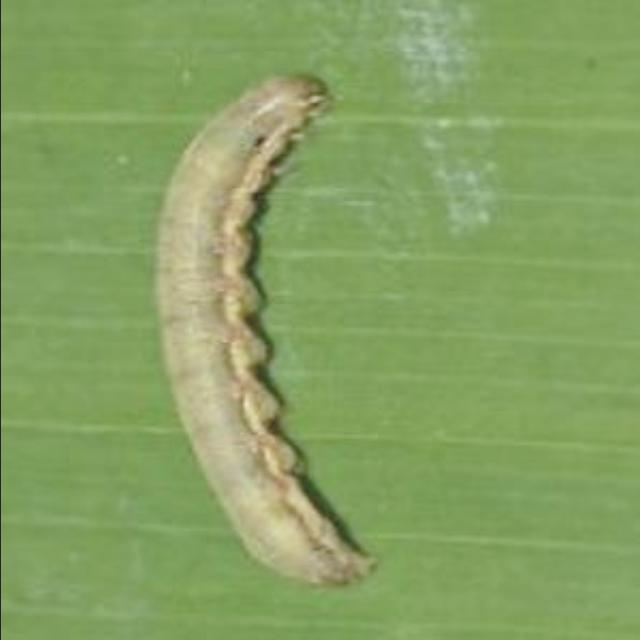Tobacco cutworm: (104, 69, 456, 624)
